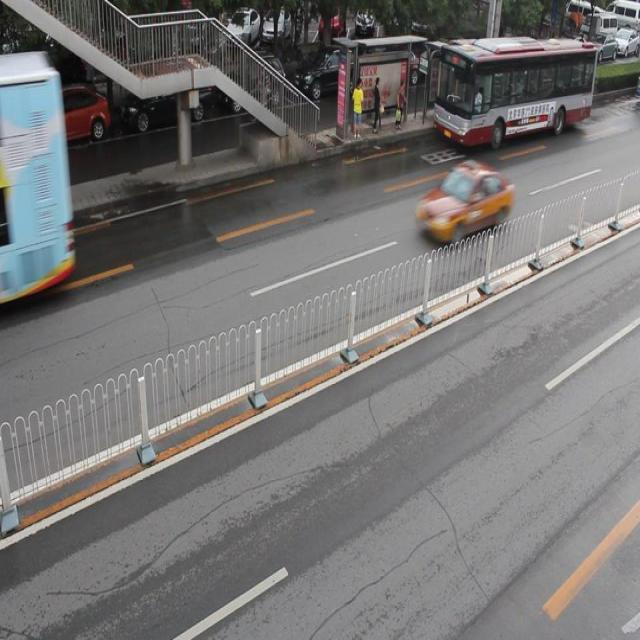car: (415, 158, 510, 247), (18, 82, 108, 147), (118, 72, 210, 127), (220, 49, 285, 112), (292, 42, 361, 99)
van: (0, 51, 74, 302), (434, 41, 595, 145)
